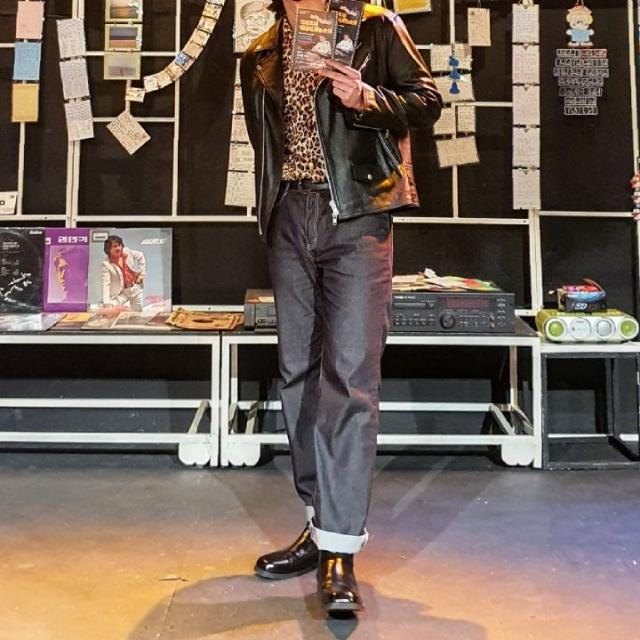denimpants: (268, 179, 393, 555)
jacket: (240, 5, 443, 224)
